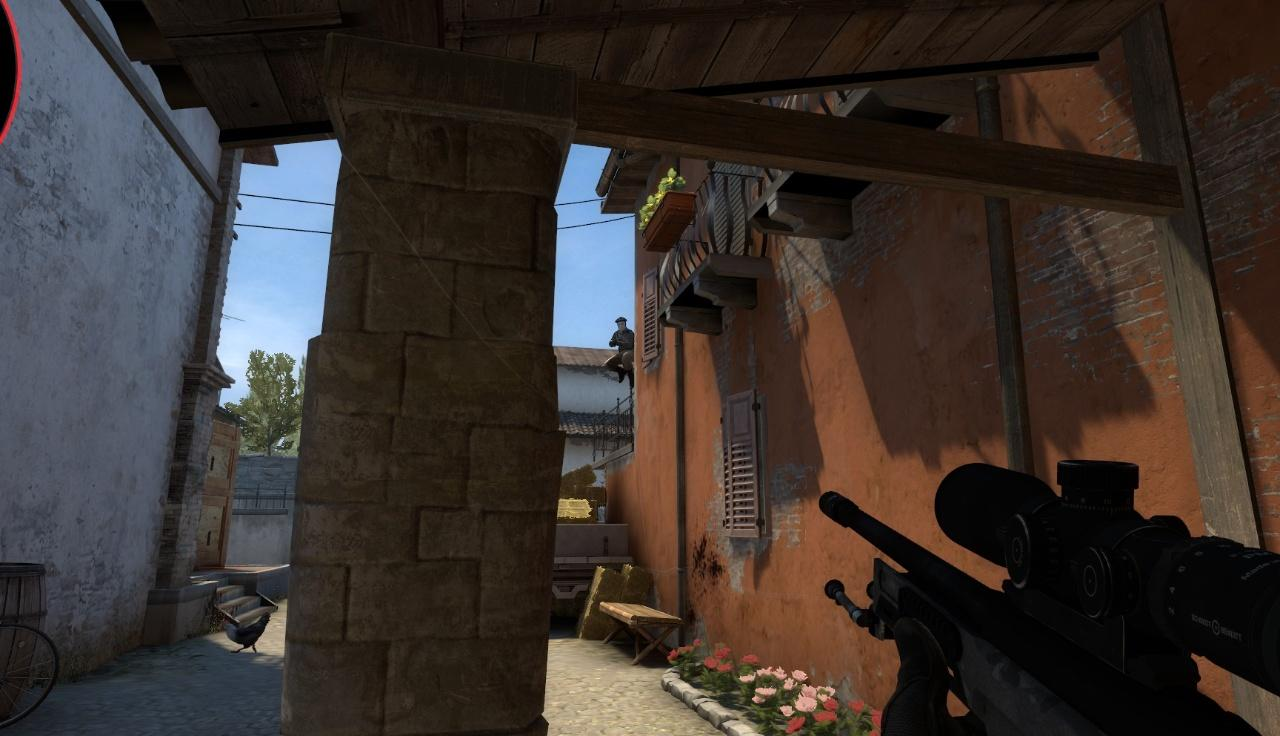sniper: (819, 443, 1280, 736)
tt: (609, 317, 635, 384)
tthead: (616, 316, 627, 330)
